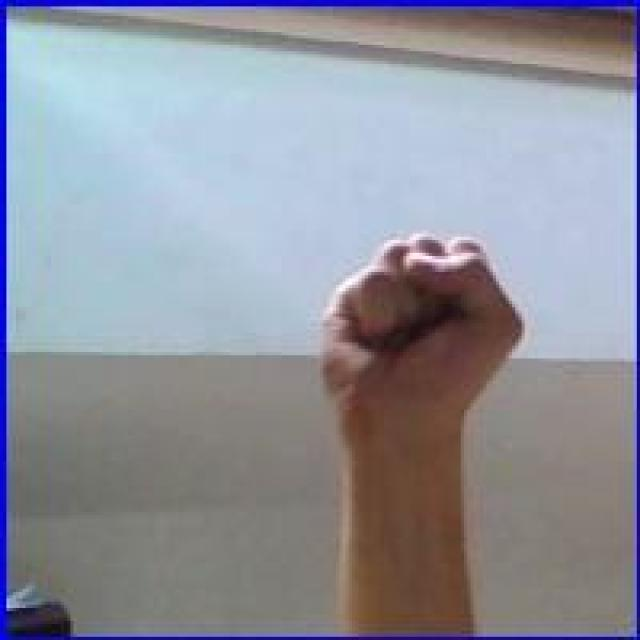S: (314, 229, 524, 443)
